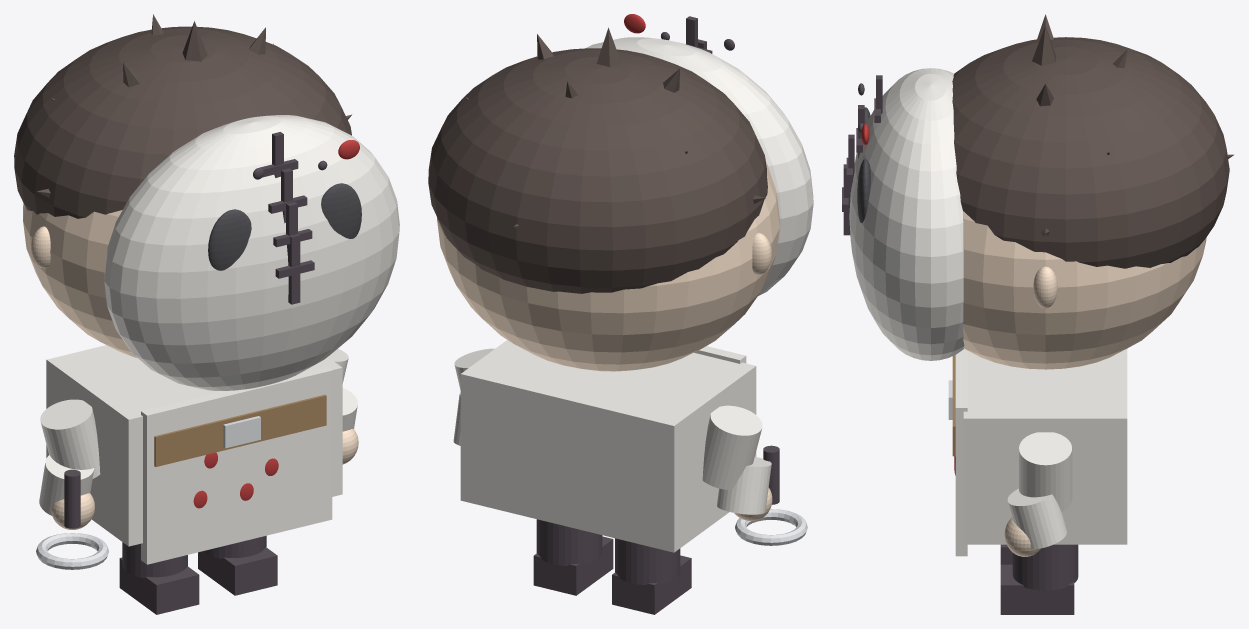
File: butcher.glb
3 renders of one model, left to right at view 1: azimuth 30°, elevation 25°; view 2: azimuth 150°, elevation 25°; view 3: azimuth 270°, elevation 25°, orthographic.
Parts seen in each view (by area): view 1: MaskFace, HairCap, Apron, Coat, Head, ApronBelt, UpperArm_L, Shoe_L, Shoe_R, MaskEye_L, MaskEye_R, Hook (+10 smaller); view 2: HairCap, Coat, Head, MaskFace, UpperArm_L, Leg_R, Leg_L, Shoe_R, Shoe_L, Forearm_L, Hook, Ear_L (+2 smaller); view 3: HairCap, MaskFace, Coat, Head, UpperArm_R, Leg_R, Shoe_R, Forearm_R, Apron, Ear_R, Hand_R, MaskEye_R (+1 smaller).
Boxes of the visible parts, x1,y1,x2,y2 form: MaskFace: [104, 115, 399, 390]; HairCap: [14, 26, 351, 218]; Apron: [141, 366, 332, 564]; Coat: [46, 345, 342, 546]; Head: [23, 203, 137, 357]; ApronBelt: [154, 394, 326, 466]; UpperArm_L: [40, 399, 100, 478]; Shoe_L: [119, 557, 199, 614]; Shoe_R: [198, 547, 277, 595]; MaskEye_L: [208, 209, 251, 270]; MaskEye_R: [321, 183, 361, 238]; Hook: [36, 533, 108, 569]; HairCap: [428, 48, 767, 293]; Coat: [460, 340, 756, 552]; Head: [437, 161, 779, 371]; MaskFace: [586, 37, 813, 295]; UpperArm_L: [702, 405, 762, 489]; Leg_R: [536, 519, 602, 565]; Leg_L: [615, 538, 680, 584]; Shoe_R: [533, 536, 613, 595]; Shoe_L: [612, 555, 691, 614]; Forearm_L: [717, 457, 771, 514]; Hook: [735, 509, 807, 545]; Ear_L: [752, 232, 771, 274]; HairCap: [952, 37, 1229, 268]; MaskFace: [849, 68, 964, 360]; Coat: [963, 349, 1127, 544]; Head: [963, 211, 1206, 369]; UpperArm_R: [1019, 432, 1072, 511]; Leg_R: [1012, 544, 1078, 590]; Shoe_R: [1000, 564, 1074, 614]; Forearm_R: [1007, 488, 1066, 549]; Apron: [955, 348, 967, 556]; Ear_R: [1033, 266, 1057, 308]; Hand_R: [1004, 517, 1040, 556]; MaskEye_R: [857, 159, 870, 222].
Bounding box in the file's own units: 1.25 × 2 × 1.27.
